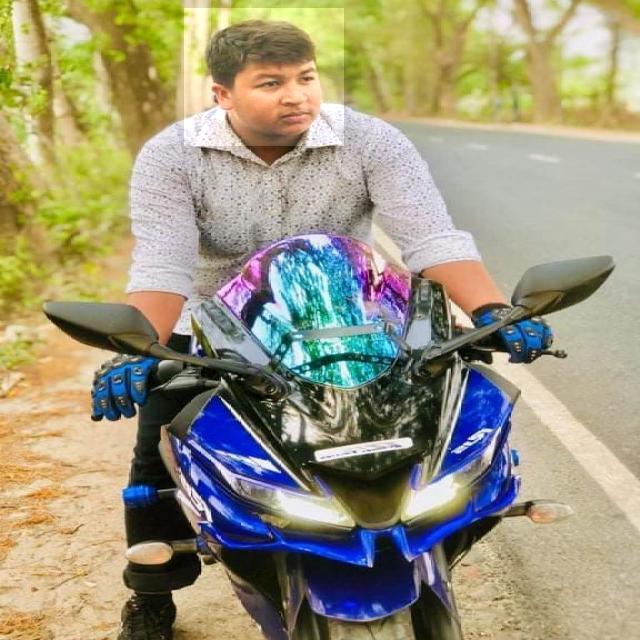No_Helmet: (184, 8, 344, 146)
